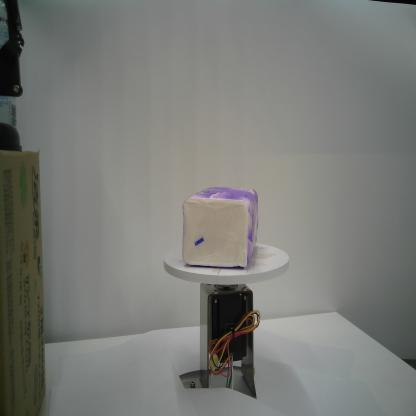Tissue: (180, 184, 260, 269)
